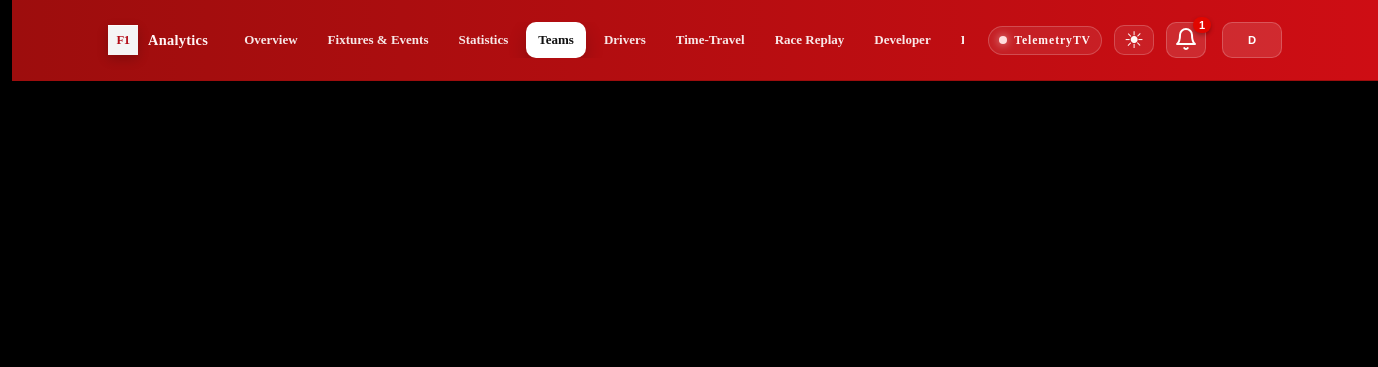
Test: TopNavigation › loads notifications through the authenticated client and refreshes on bell click
The width and height of the screenshot is (1378, 367).
Click the button titled "Notifications".
click(1186, 40)  # box 1166,22 -> 1206,58
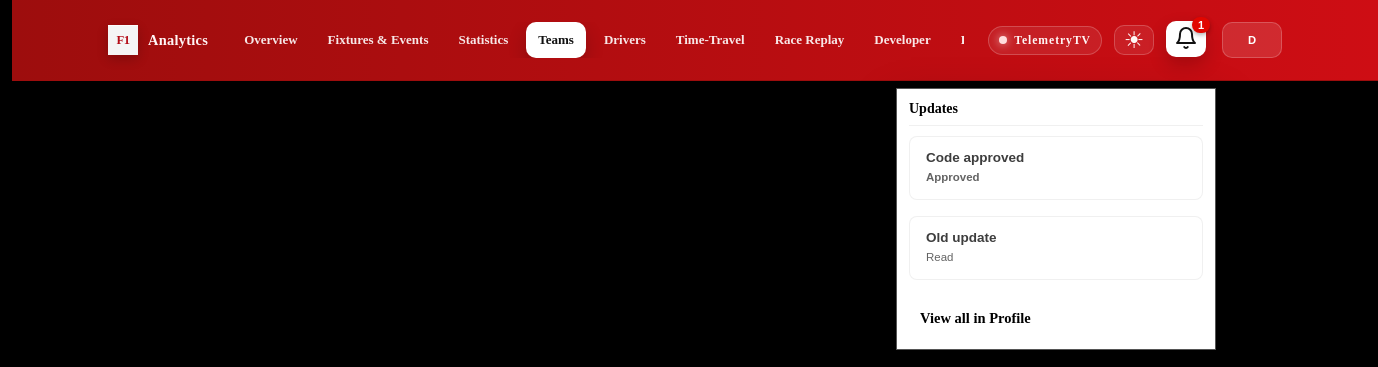
Now the text "Code approved" is shown, box 926,150 -> 1024,165
